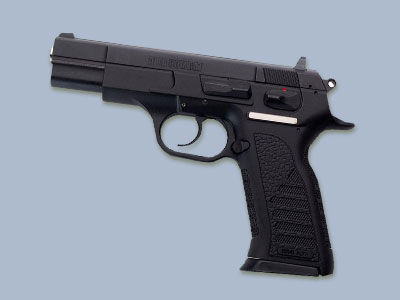gun: (46, 28, 355, 283)
